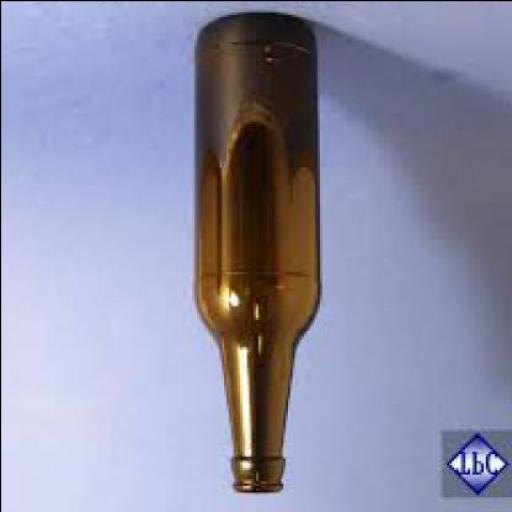glass: (193, 11, 321, 494)
